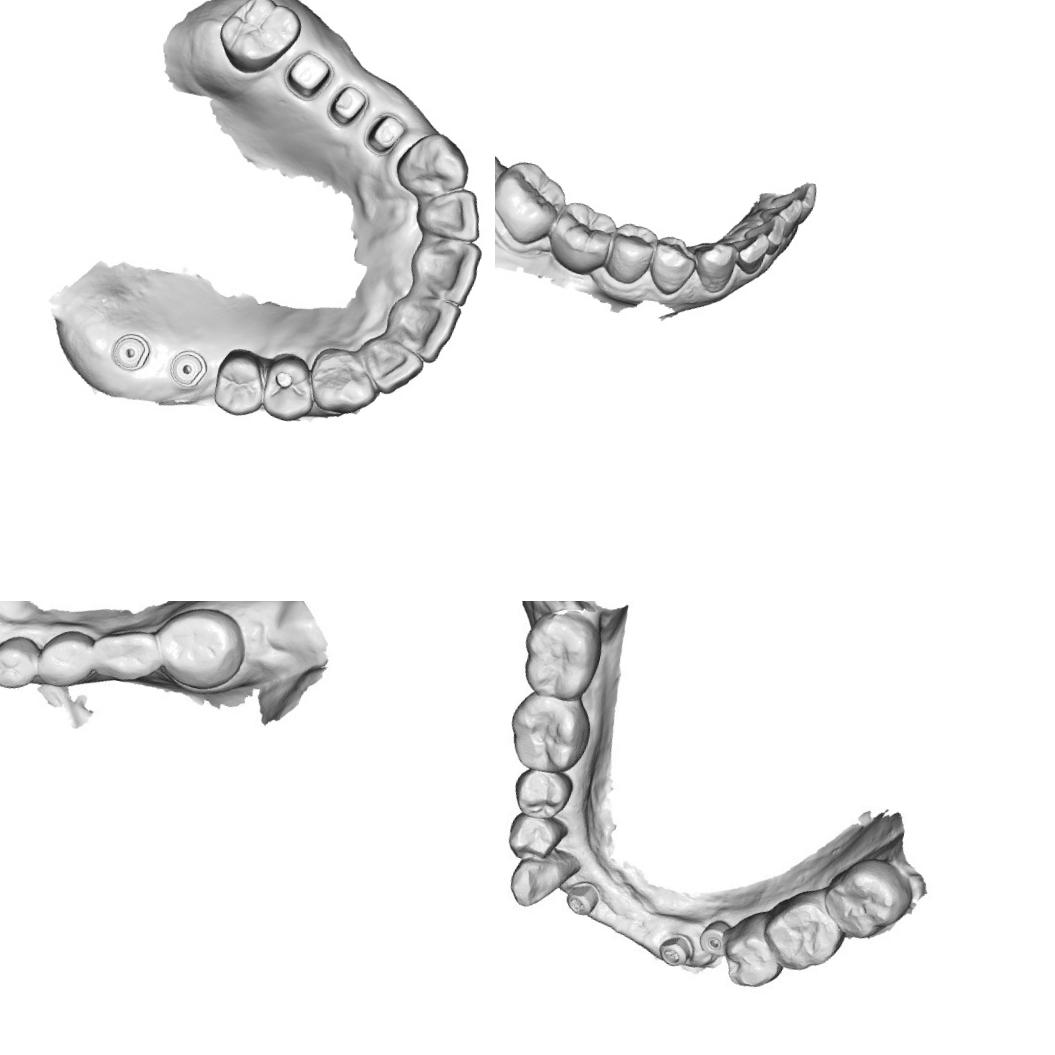abutment: (278, 38, 340, 110), (322, 70, 376, 136), (358, 100, 408, 159)
canine: (389, 121, 475, 206), (302, 339, 384, 424), (506, 846, 579, 914), (686, 234, 741, 297)
implant: (100, 321, 162, 385), (156, 337, 218, 400), (558, 878, 604, 923), (694, 911, 736, 958), (653, 928, 697, 972)
incisor: (404, 226, 489, 309), (378, 288, 461, 370), (406, 174, 490, 250), (354, 331, 428, 400), (714, 224, 772, 278), (766, 174, 819, 224), (756, 190, 806, 240), (740, 207, 789, 258)
molar: (149, 601, 251, 697), (818, 851, 916, 947), (206, 0, 309, 90), (514, 608, 608, 704), (503, 684, 592, 779), (495, 154, 573, 253), (542, 195, 623, 282), (766, 888, 845, 972), (715, 912, 792, 994)
premolar: (255, 345, 327, 429), (32, 620, 105, 698), (207, 344, 275, 422), (89, 623, 162, 686), (602, 218, 662, 290), (644, 231, 702, 301), (506, 804, 569, 866), (512, 763, 572, 823), (0, 632, 47, 697)
